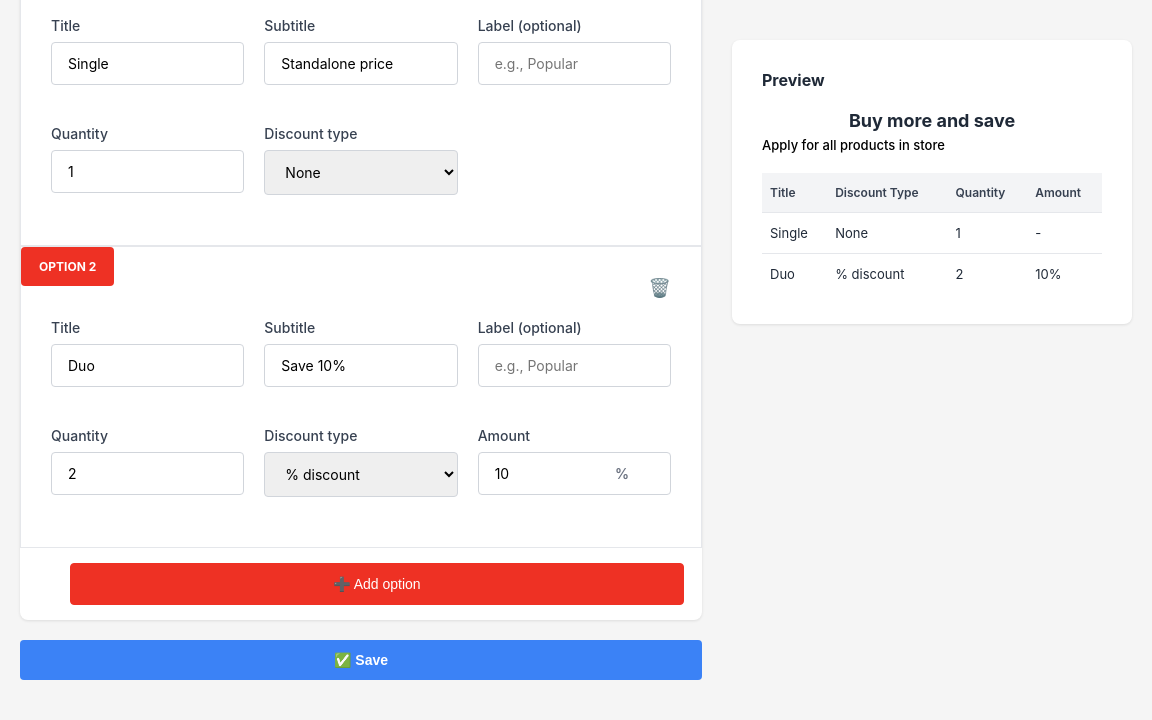
VolumeDiscountForm Component › Field Array Management › adds multiple options sequentially
(page scrolled)
Click the button "➕ Add option" at (377, 584), box left=70, top=563, right=684, bottom=605
(page scrolled)
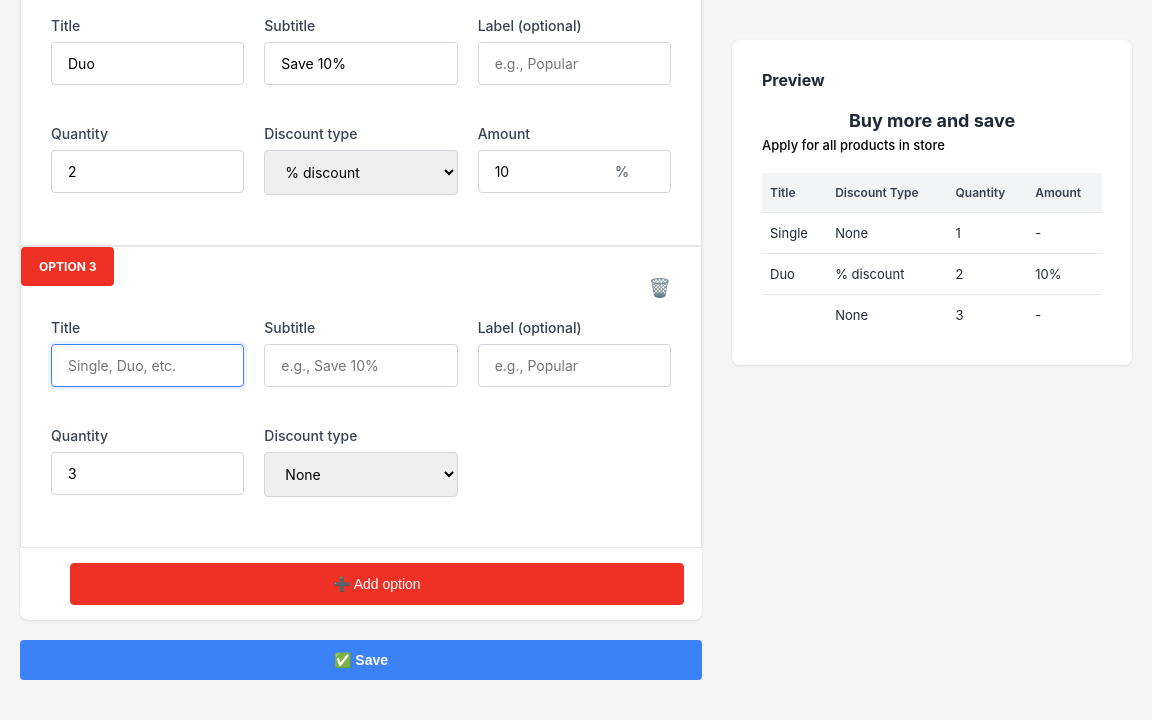
Expected: the text "OPTION 3" is shown, left=21, top=247, right=114, bottom=286
Click the button "➕ Add option" at (377, 584), box left=70, top=563, right=684, bottom=605
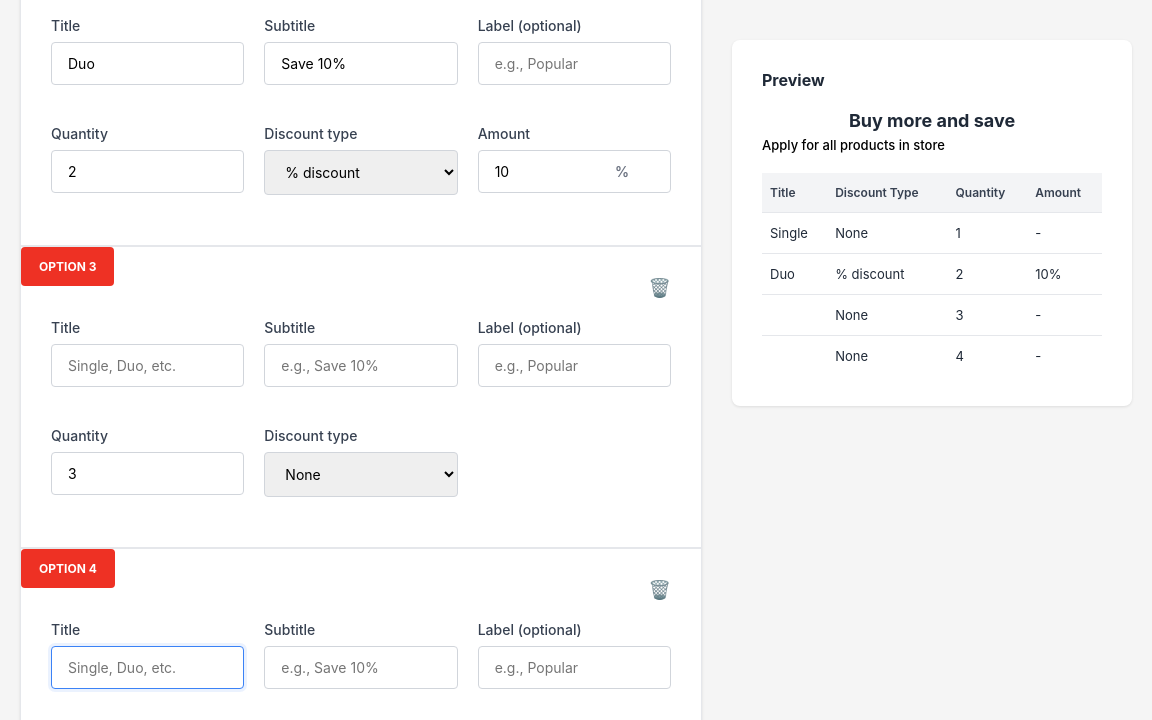
Expected: the text "OPTION 3" is shown, left=21, top=247, right=114, bottom=286
Expected: the text "OPTION 4" is shown, left=21, top=549, right=115, bottom=588
